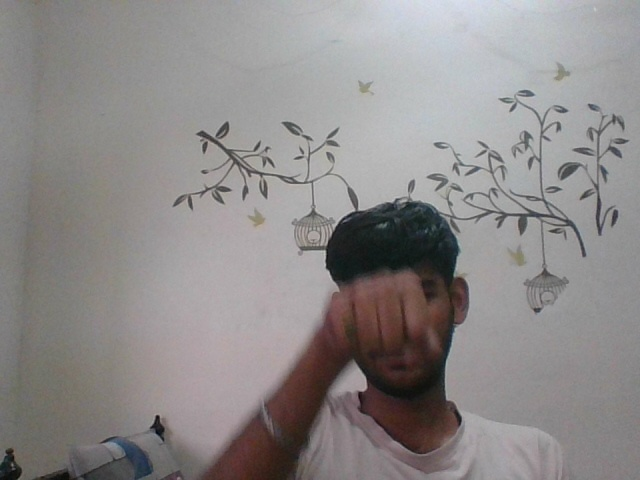Thank You: (308, 258, 444, 375)
